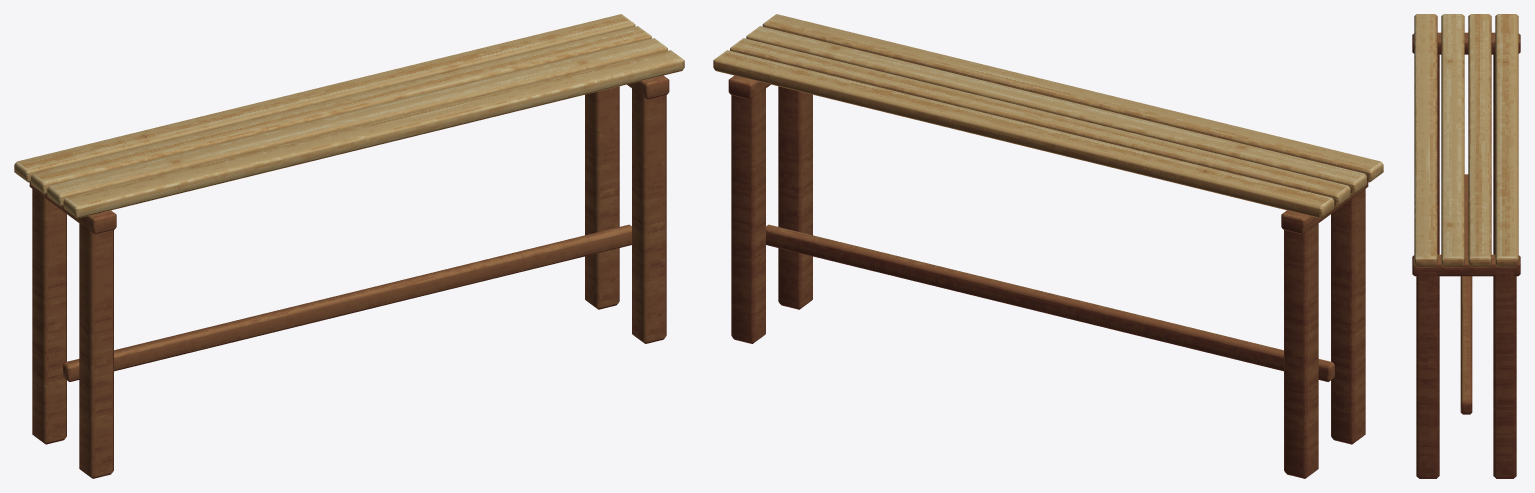
File: plant_bench.glb
3 renders of one model, left to right at view 1: azimuth 30°, elevation 25°; view 2: azimuth 150°, elevation 25°; view 3: azimuth 270°, elevation 25°, orthographic. The views are drawn at different scales.
Parts seen in each view (by area): view 1: mesh; view 2: mesh; view 3: mesh.
Boxes of the visible parts, x1,y1,x2,y2 form: mesh: (14,14,684,478); mesh: (713,14,1383,478); mesh: (1412,14,1520,478).
Bounding box in the file's own units: 1.5 × 0.655 × 0.28.
1 material, 1 textured.
